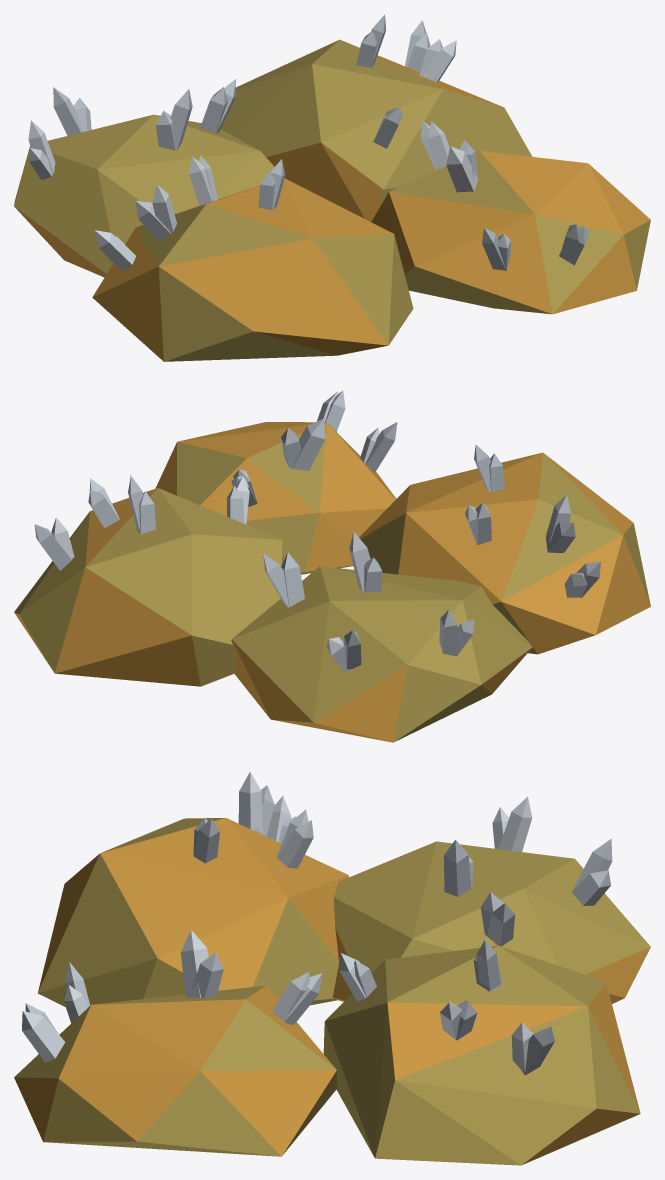
The model's file is minerai_zinc_1.glb.
The picture shows the model from 3 angles, top to bottom: view 1: azimuth 30°, elevation 25°; view 2: azimuth 150°, elevation 25°; view 3: azimuth 270°, elevation 25°; orthographic projection. The views are drawn at different scales.
Parts seen in each view (by area): view 1: minerai_zinc_roche.004, minerai_zinc_miel.004, minerai_zinc_metal.004, minerai_gris_clair.008; view 2: minerai_zinc_roche.004, minerai_zinc_miel.004, minerai_gris_clair.008, minerai_zinc_metal.004; view 3: minerai_zinc_roche.004, minerai_zinc_miel.004, minerai_zinc_metal.004, minerai_gris_clair.008.
Boxes of the visible parts, x1,y1,x2,y2 form: minerai_zinc_roche.004: (14, 39, 650, 361); minerai_zinc_miel.004: (15, 41, 650, 361); minerai_zinc_metal.004: (28, 32, 589, 271); minerai_gris_clair.008: (53, 14, 579, 269); minerai_zinc_roche.004: (14, 422, 650, 742); minerai_zinc_miel.004: (14, 422, 650, 742); minerai_gris_clair.008: (34, 390, 575, 669); minerai_zinc_metal.004: (51, 391, 600, 672); minerai_zinc_roche.004: (14, 818, 650, 1165); minerai_zinc_miel.004: (14, 818, 650, 1164); minerai_zinc_metal.004: (22, 771, 610, 1071); minerai_gris_clair.008: (25, 785, 612, 1075).
Size of the model in its own units: 0.551 by 0.1595 by 0.5411.
